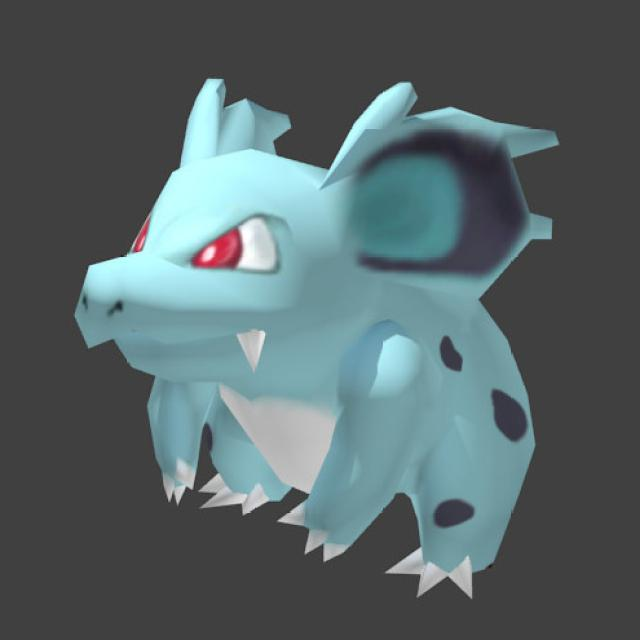Nidorina: (75, 81, 543, 576)
